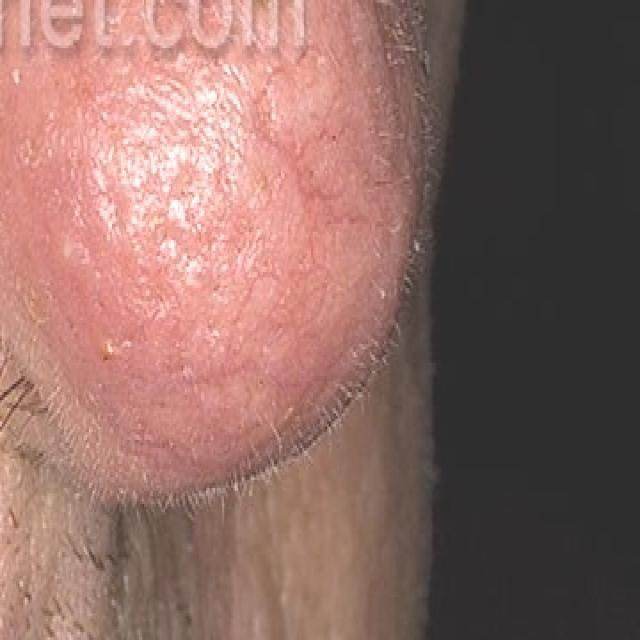Rosacea: (14, 31, 391, 465)
